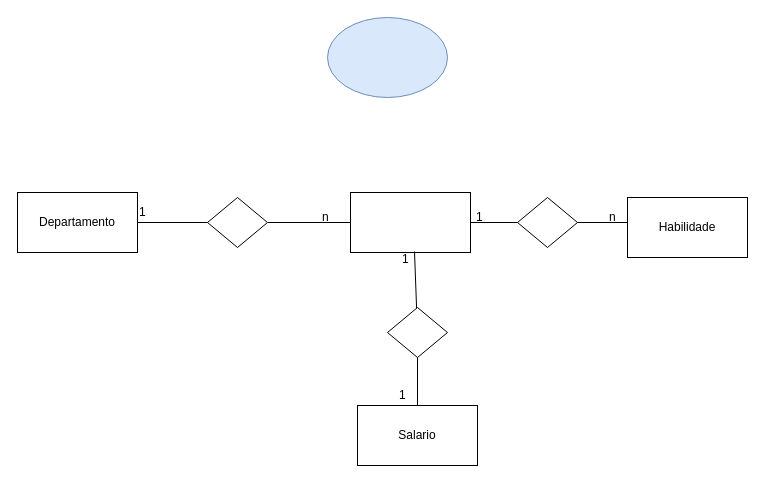
This 765x483 diagram has some shape labels left out. The centre of each missing label's shape, as x and y in pixels:
"Conceitual" belongs at point 387,57.
"Funcionário" belongs at point 410,222.
